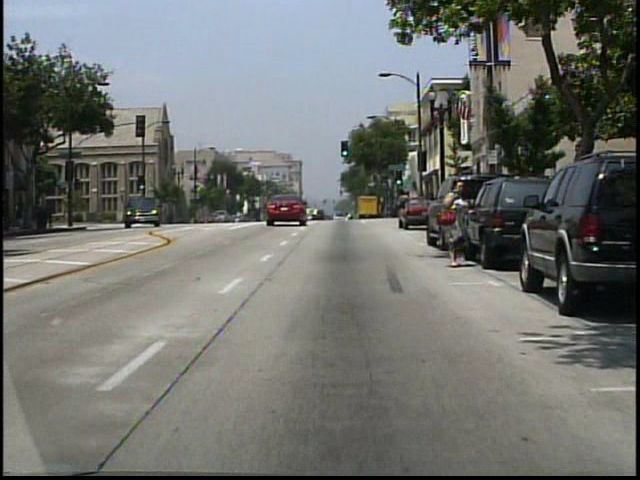person: (437, 178, 482, 271)
